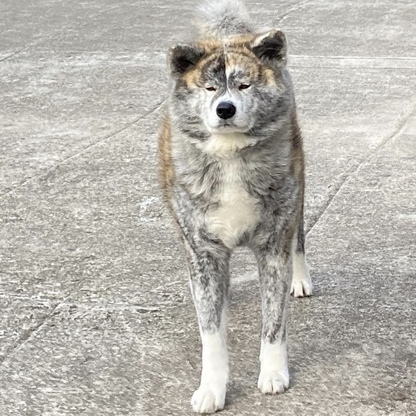akita: (151, 1, 320, 416)
